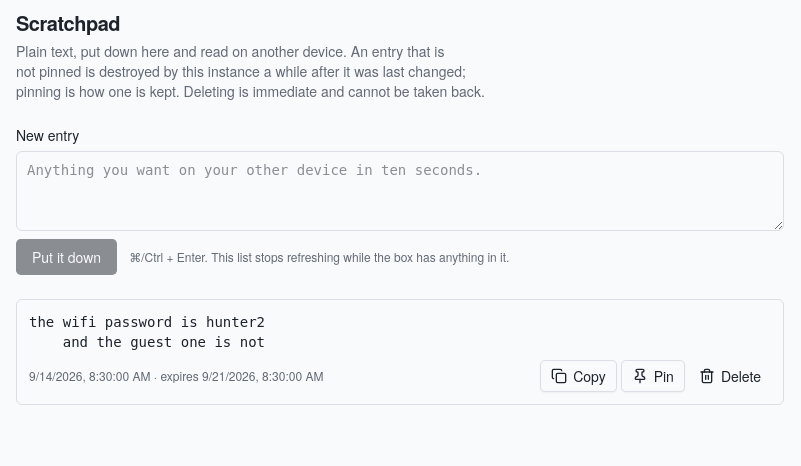
Test case: the Scratchpad › acts on a stale write rather than printing a version nobody held
Click the button with aria-label "Pin “" at (653, 376), box [621, 360, 685, 392]
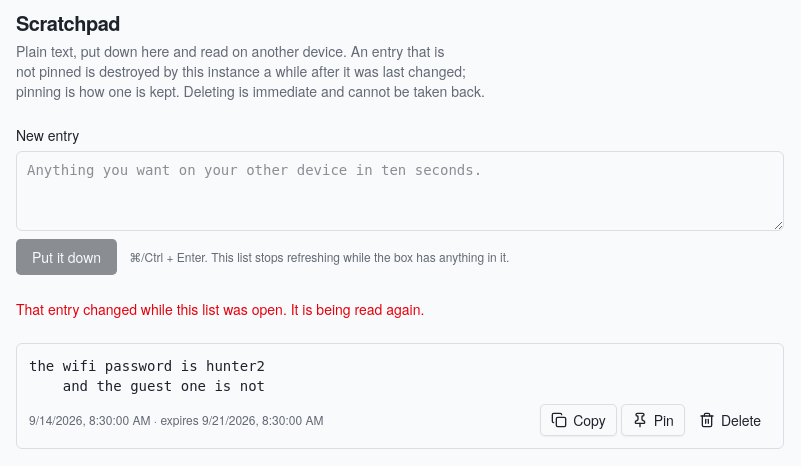
Check: the message shows "changed while this list was open", box [16, 299, 424, 319]
